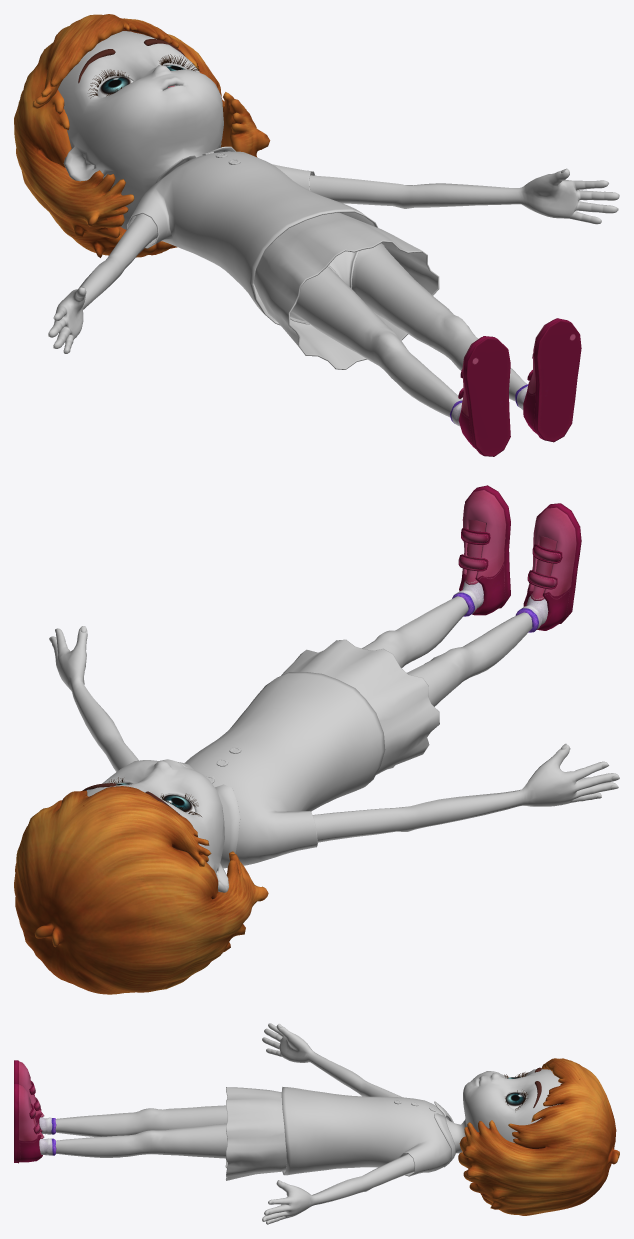
File: Girl.fbx
The picture shows the model from 3 angles, top to bottom: view 1: azimuth 30°, elevation 25°; view 2: azimuth 150°, elevation 25°; view 3: azimuth 270°, elevation 25°; orthographic projection. The views are drawn at different scales.
Visible parts, largest first — view 1: body_geo, head_geo, hair_geo, cloth_geo, skirt_geo, L_shoe_geo, R_shoe_geo, Briefs_geo; view 2: hair_geo, cloth_geo, body_geo, skirt_geo, head_geo, L_shoe_geo, R_shoe_geo, R_shoelace_geo, L_shoelace_geo; view 3: hair_geo, body_geo, cloth_geo, skirt_geo, head_geo, L_shoe_geo, R_shoe_geo.
Part boxes in pixels (x1,y1,x2,y2): body_geo: (48,168,619,417); head_geo: (58,31,223,229); hair_geo: (14,14,270,257); cloth_geo: (126,146,378,325); skirt_geo: (253,212,439,369); L_shoe_geo: (523,318,581,442); R_shoe_geo: (458,336,510,456); Briefs_geo: (290,243,384,324); hair_geo: (14,786,268,994); cloth_geo: (184,672,385,868); body_geo: (49,596,619,842); skirt_geo: (281,639,439,774); head_geo: (86,759,228,892); L_shoe_geo: (459,485,510,615); R_shoe_geo: (523,503,581,630); R_shoelace_geo: (527,544,562,589); L_shoelace_geo: (458,528,490,571); hair_geo: (458,1058,619,1215); body_geo: (55,1023,414,1224); cloth_geo: (281,1087,455,1176); skirt_geo: (225,1087,286,1180); head_geo: (446,1069,561,1153); L_shoe_geo: (14,1083,42,1163); R_shoe_geo: (14,1060,42,1134).
Size of the model in its own units: 9031 by 3217 by 12506.
